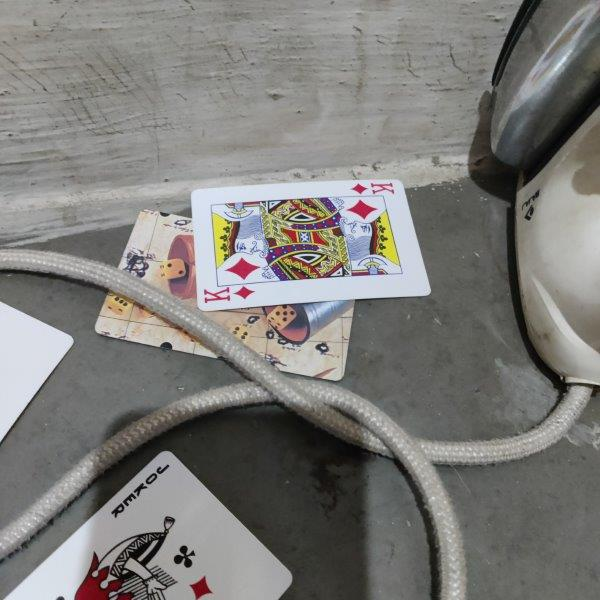Joker: (1, 451, 293, 600)
King of Diamonds: (190, 180, 433, 311)
